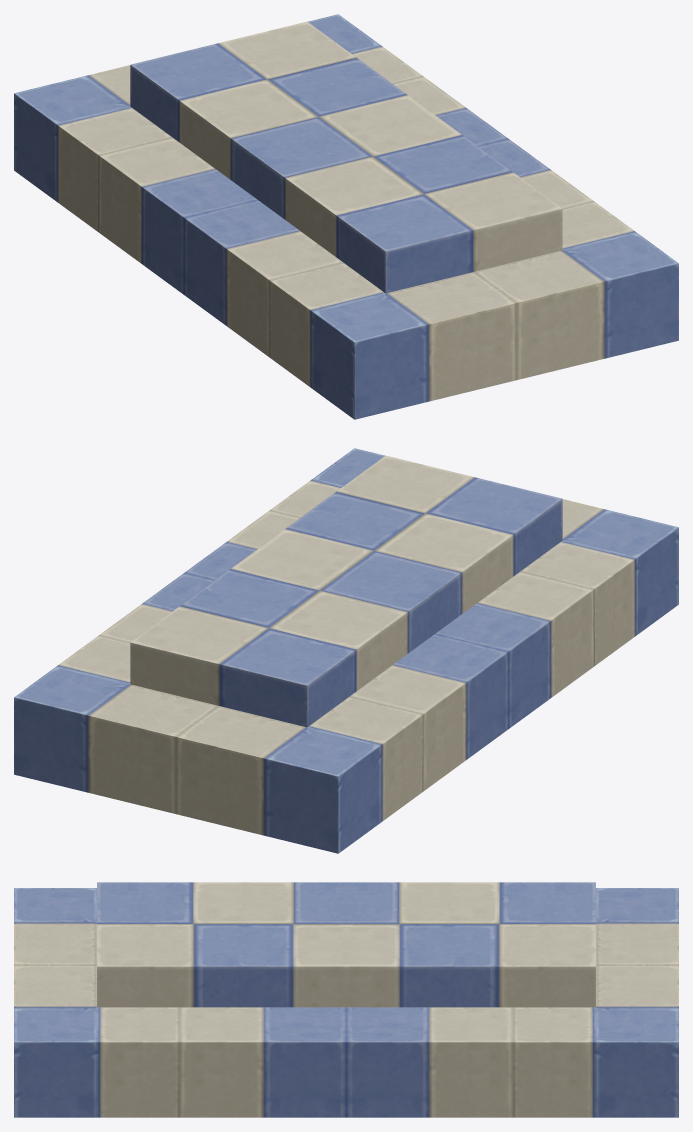
File: sc_wjgc_001_004.FBX
The picture shows the model from 3 angles, top to bottom: view 1: azimuth 30°, elevation 25°; view 2: azimuth 150°, elevation 25°; view 3: azimuth 270°, elevation 25°; orthographic projection. The views are drawn at different scales.
Visible parts, largest first — view 1: sc_wjgc_001_004; view 2: sc_wjgc_001_004; view 3: sc_wjgc_001_004.
Part boxes in pixels (bbox=[...]): sc_wjgc_001_004: bbox=[14, 14, 678, 419]; sc_wjgc_001_004: bbox=[14, 448, 678, 853]; sc_wjgc_001_004: bbox=[14, 882, 678, 1117].
Size of the model in its own units: 4.4 by 1.54 by 8.
